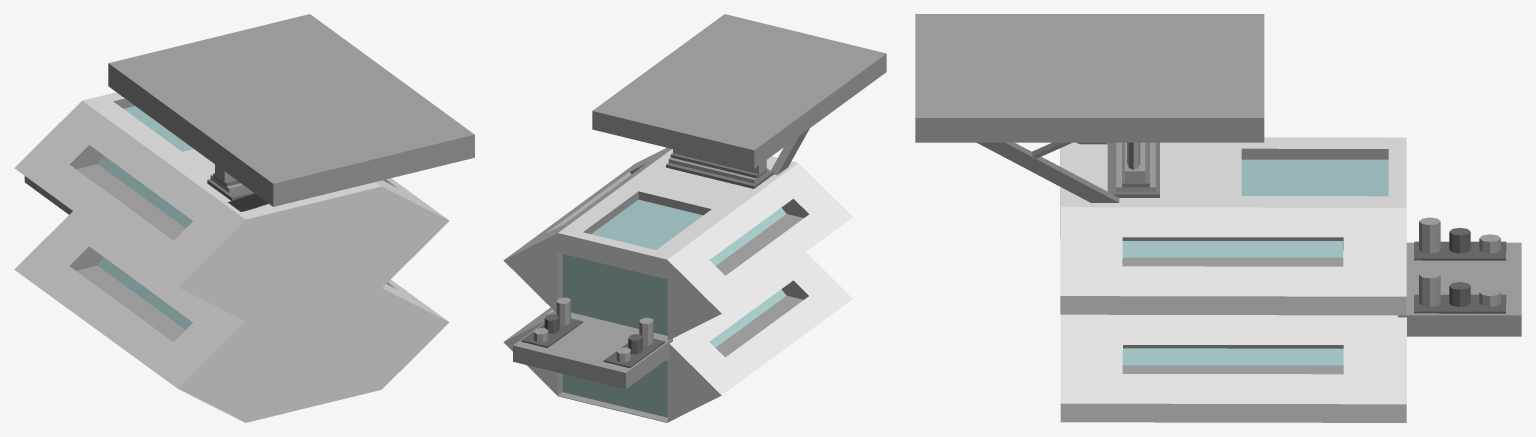
The model's file is FBX Ship Hanger Stage 3.fbx.
3 renders of one model, left to right at view 1: azimuth 30°, elevation 25°; view 2: azimuth 150°, elevation 25°; view 3: azimuth 270°, elevation 25°, orthographic. The views are drawn at different scales.
Visible parts, largest first — view 1: pCube7, pCube10, pasted__pCylinder4, pCube9; view 2: pCube7, pCube10, pasted__pCylinder4, pCube5, pasted__pCube4, pasted__pasted__pCube4, pCube9, polySurface19, pasted__polySurface19, pasted__pasted__pasted__pasted__pCube4, pasted__pasted__pasted__pCube4, pasted__polySurface17 (+1 smaller); view 3: pCube7, pCube10, pasted__pCylinder4, pCube5, pCube9, pasted__polySurface19, polySurface19, pasted__pCube4, pasted__pasted__pCube4, pasted__polySurface17, polySurface17.
Boxes of the visible parts, x1,y1,x2,y2 form: pCube7: (14,92,449,321); pCube10: (108,14,474,206); pasted__pCylinder4: (14,211,449,422); pCube9: (228,193,268,211); pCube7: (503,147,852,340); pCube10: (592,14,886,168); pasted__pCylinder4: (503,252,852,422); pCube5: (513,314,672,388); pasted__pCube4: (666,162,773,188); pasted__pasted__pCube4: (668,157,769,183); pCube9: (771,128,809,175); polySurface19: (521,318,582,347); pasted__polySurface19: (603,338,665,368); pasted__pasted__pasted__pasted__pCube4: (673,149,766,175); pasted__pasted__pasted__pCube4: (670,153,767,178); pasted__polySurface17: (556,297,570,325); pCube7: (1060,137,1406,315); pCube10: (915,14,1264,142); pasted__pCylinder4: (1060,314,1406,422); pCube5: (1397,242,1521,336); pCube9: (977,142,1119,202); pasted__polySurface19: (1414,241,1506,260); polySurface19: (1414,294,1506,313); pasted__pCube4: (1107,142,1159,197); pasted__pasted__pCube4: (1116,142,1155,192); pasted__polySurface17: (1419,270,1440,306); polySurface17: (1419,217,1440,253).
Bounding box in the file's own units: 17.6 × 18.55 × 32.11.
